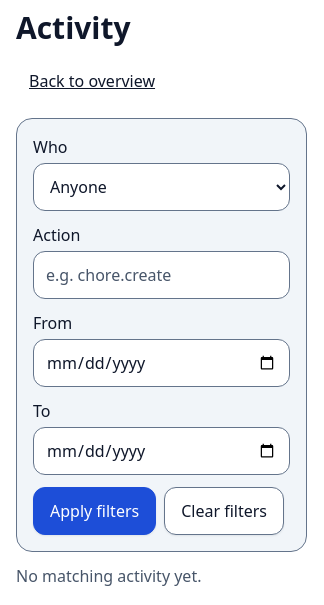
Test case: filtering › clearing filters returns to the unfiltered first page
Expected: the text "No matching activity yet." is shown, [16,564,202,588]
In the field labelled "Action": (162, 275) [33,251,290,299], type "chore.create"
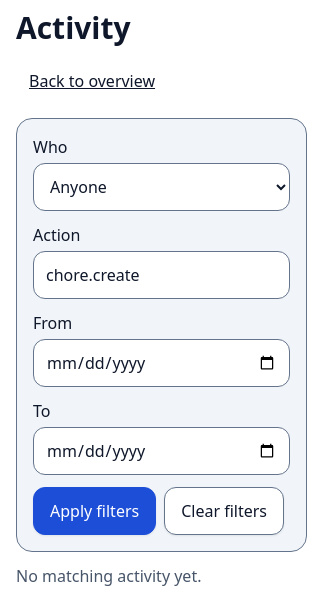
Click the button "Apply filters": (95, 511) [33,487,156,535]
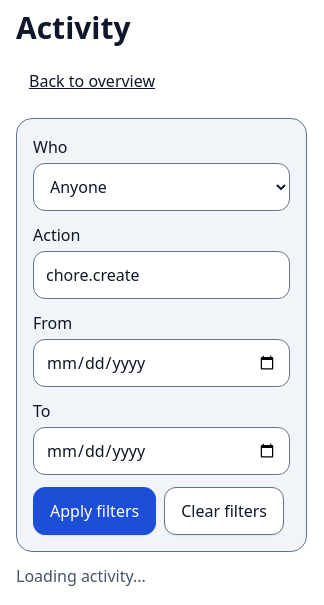
Click the button "Clear filters": (224, 511) [164,487,284,535]
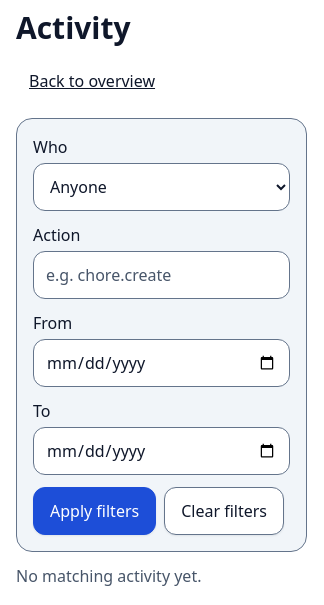
Expected: the field labelled "Action" is empty, [33,251,290,299]
